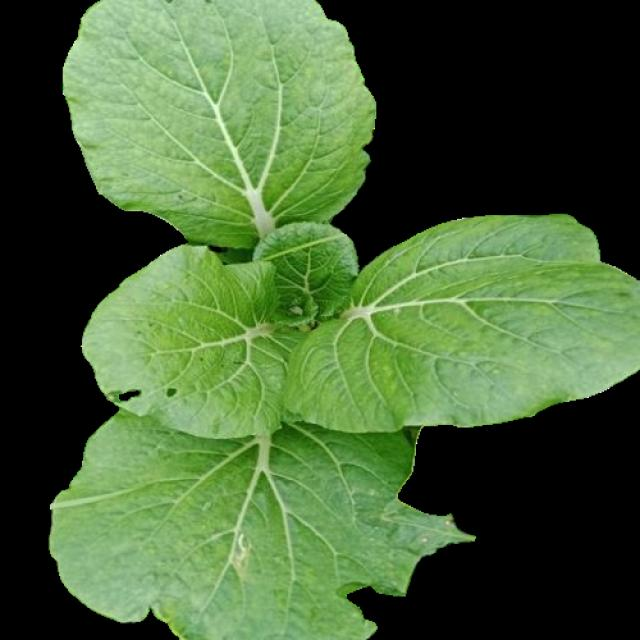mature: (49, 1, 636, 638)
unhealthy: (56, 393, 472, 632), (86, 248, 293, 439)
